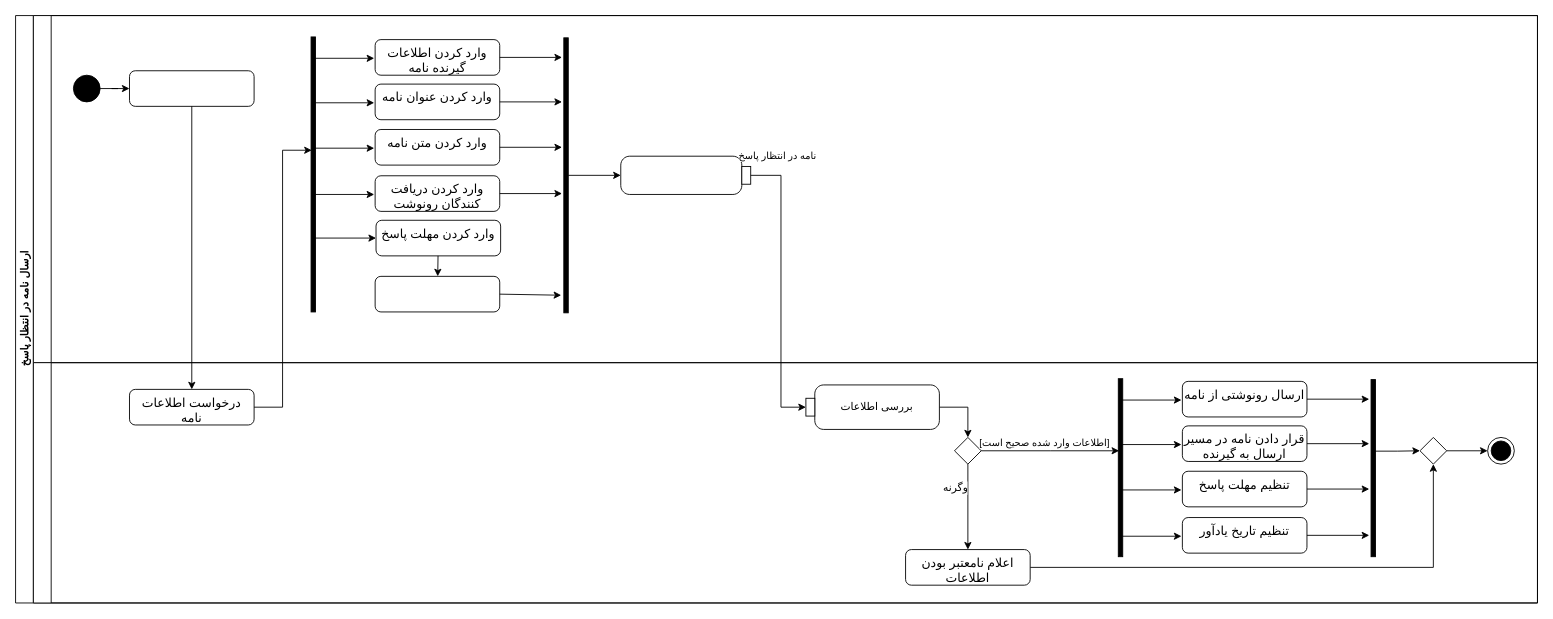
Some shapes in this 1553 by 619 pixel diagram are drawn without their labels. Here are the shapes that lost their labels. From the top down, the box of each, then its label:
(129, 70, 254, 106): درخواست ارسال نامه جدید
(620, 155, 751, 194): تایید اطلاعات نامه
(32, 15, 1537, 363): کاربر
(374, 275, 500, 312): وارد کردن تاریخ یادآور
(32, 362, 1537, 603): سامانه
